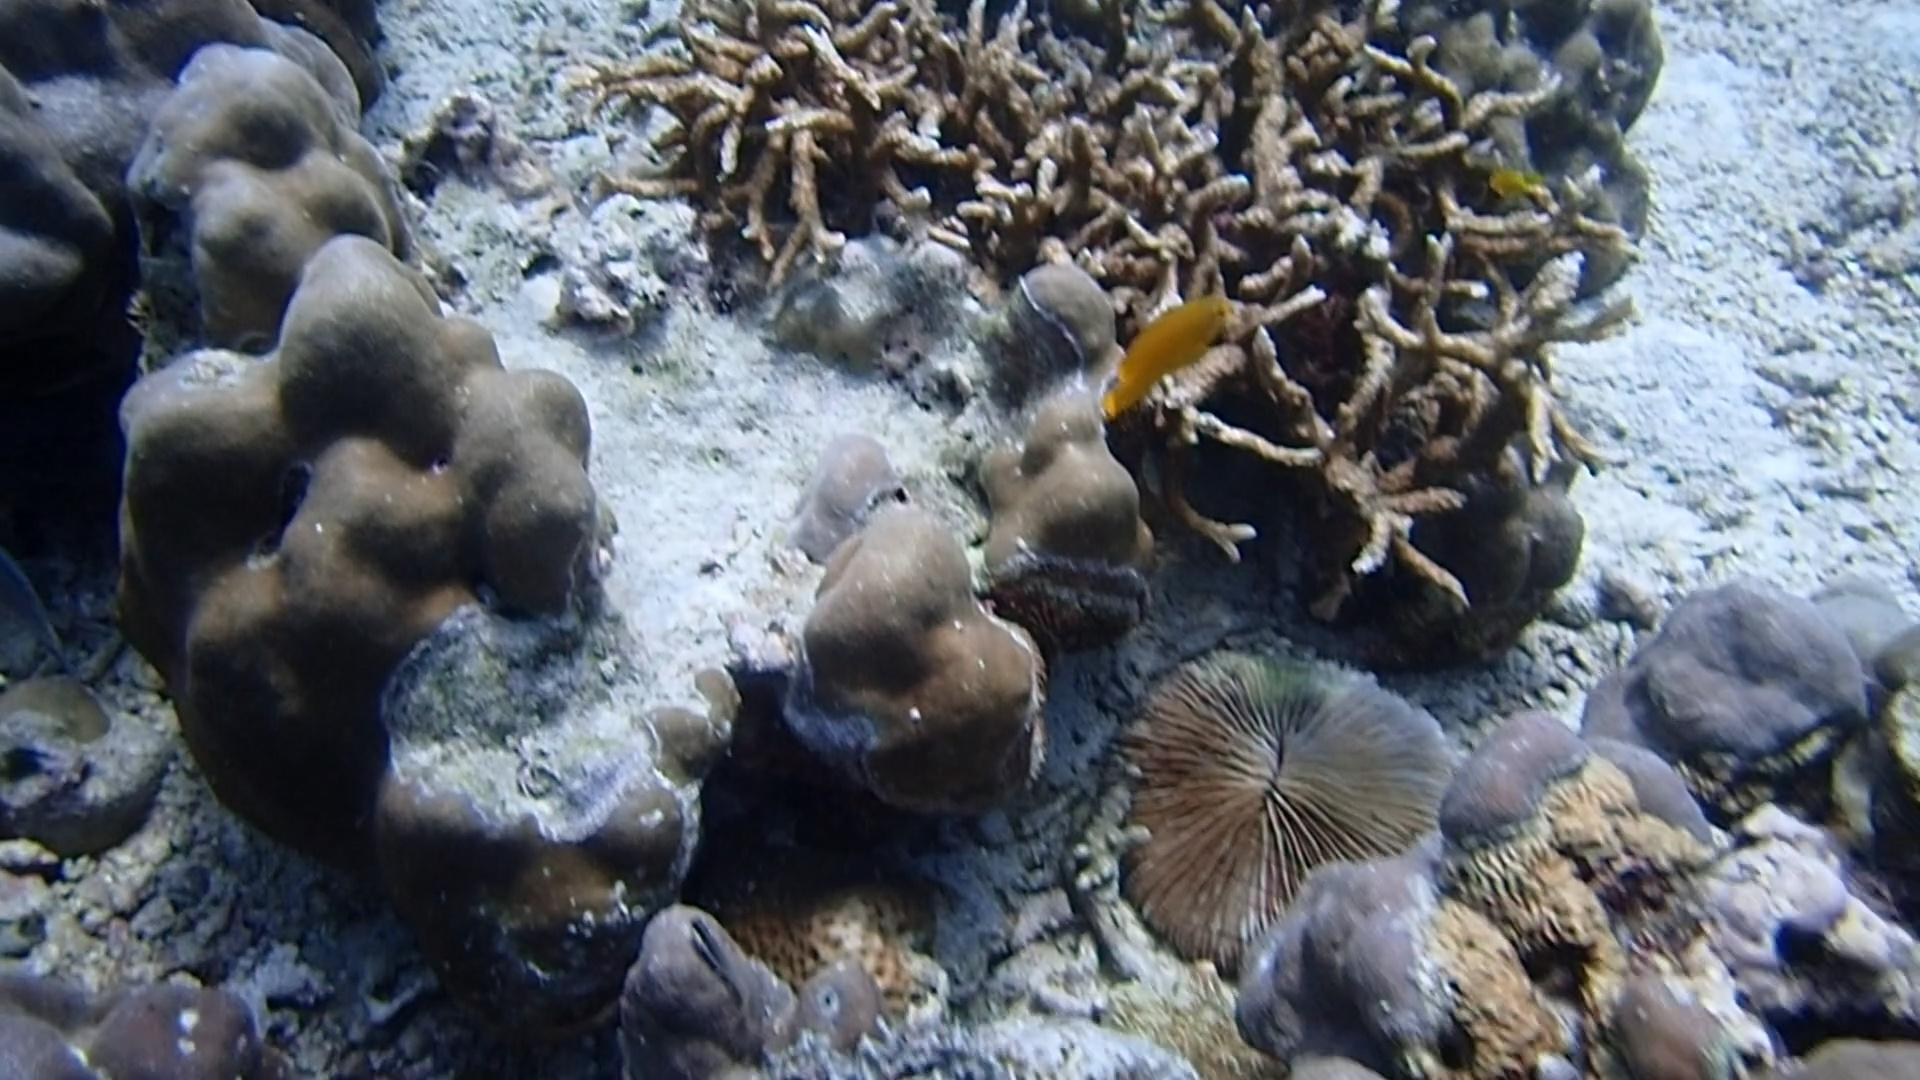Yellow Fish: (1096, 280, 1232, 433), (1489, 162, 1532, 208)
